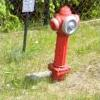a fire hydrant: (53, 14, 71, 82)
